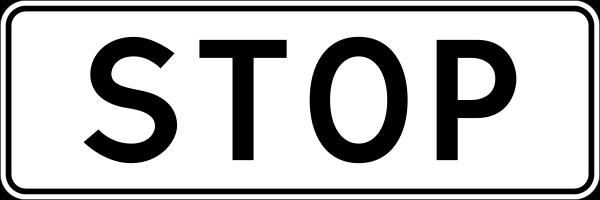Stop: (47, 18, 522, 175)
